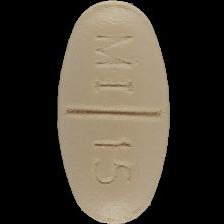64725-0247: (0, 0, 224, 224)
